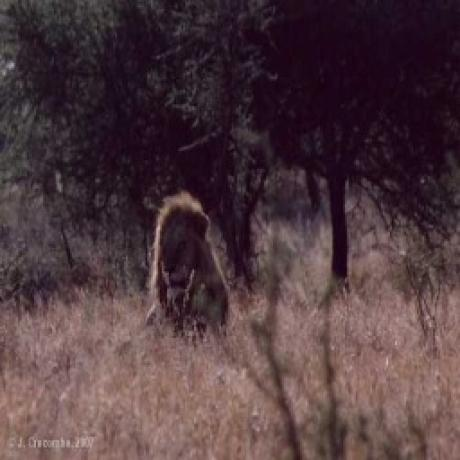Lion: (139, 186, 230, 330)
